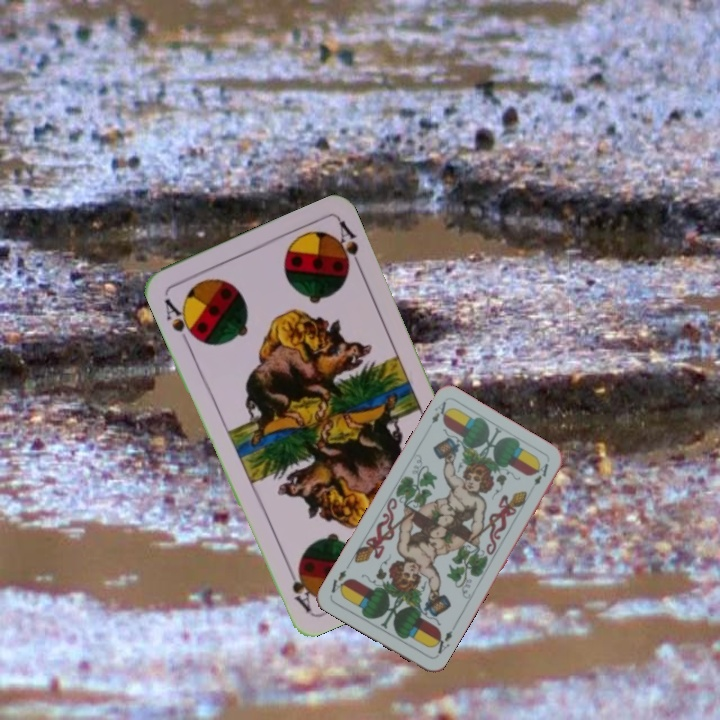EA: (428, 622, 458, 659), (427, 397, 452, 426)
SA: (160, 294, 201, 348)
